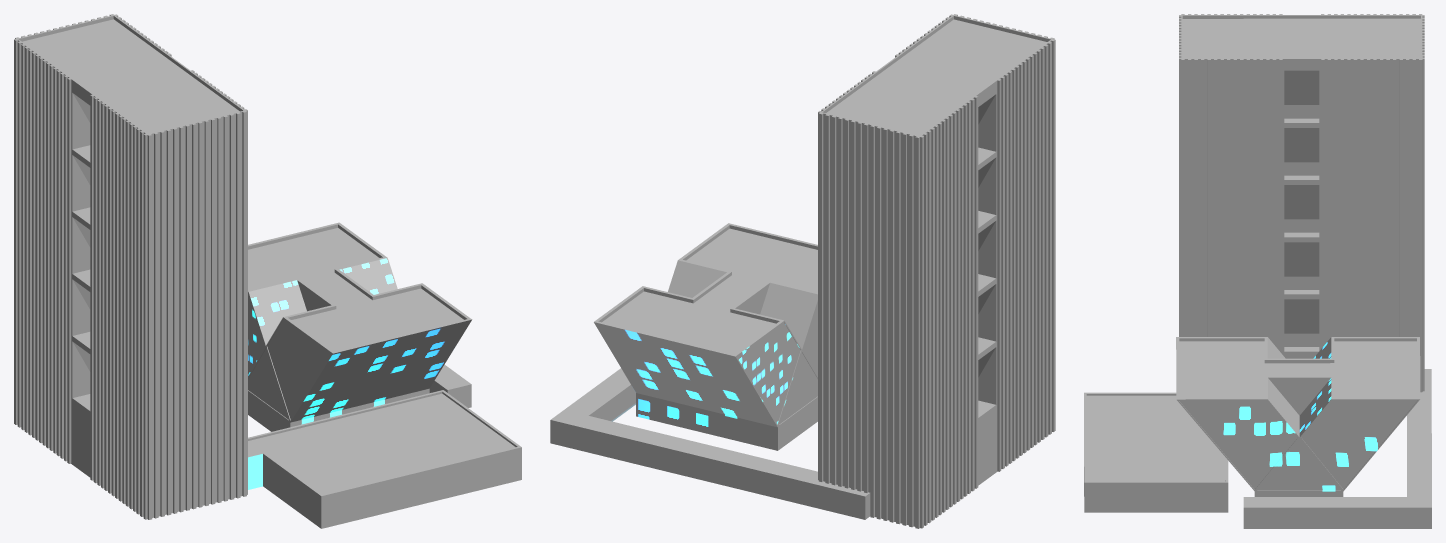
Rendered from 成都市市级机关第六办公区_T.gltf.
The picture shows the model from 3 angles, left to right: view 1: azimuth 30°, elevation 25°; view 2: azimuth 150°, elevation 25°; view 3: azimuth 270°, elevation 25°; orthographic projection. The views are drawn at different scales.
Visible parts, largest first — view 1: 成都市市级机关第六办公区_T; view 2: 成都市市级机关第六办公区_T; view 3: 成都市市级机关第六办公区_T.
Part boxes in pixels (<box>): 成都市市级机关第六办公区_T: <box>14,14,521,528</box>; 成都市市级机关第六办公区_T: <box>550,14,1055,528</box>; 成都市市级机关第六办公区_T: <box>1084,14,1431,528</box>.
Bounding box in the file's own units: 1.95 × 1.99 × 1.77.
Materials: 1 (1 with a texture image).
